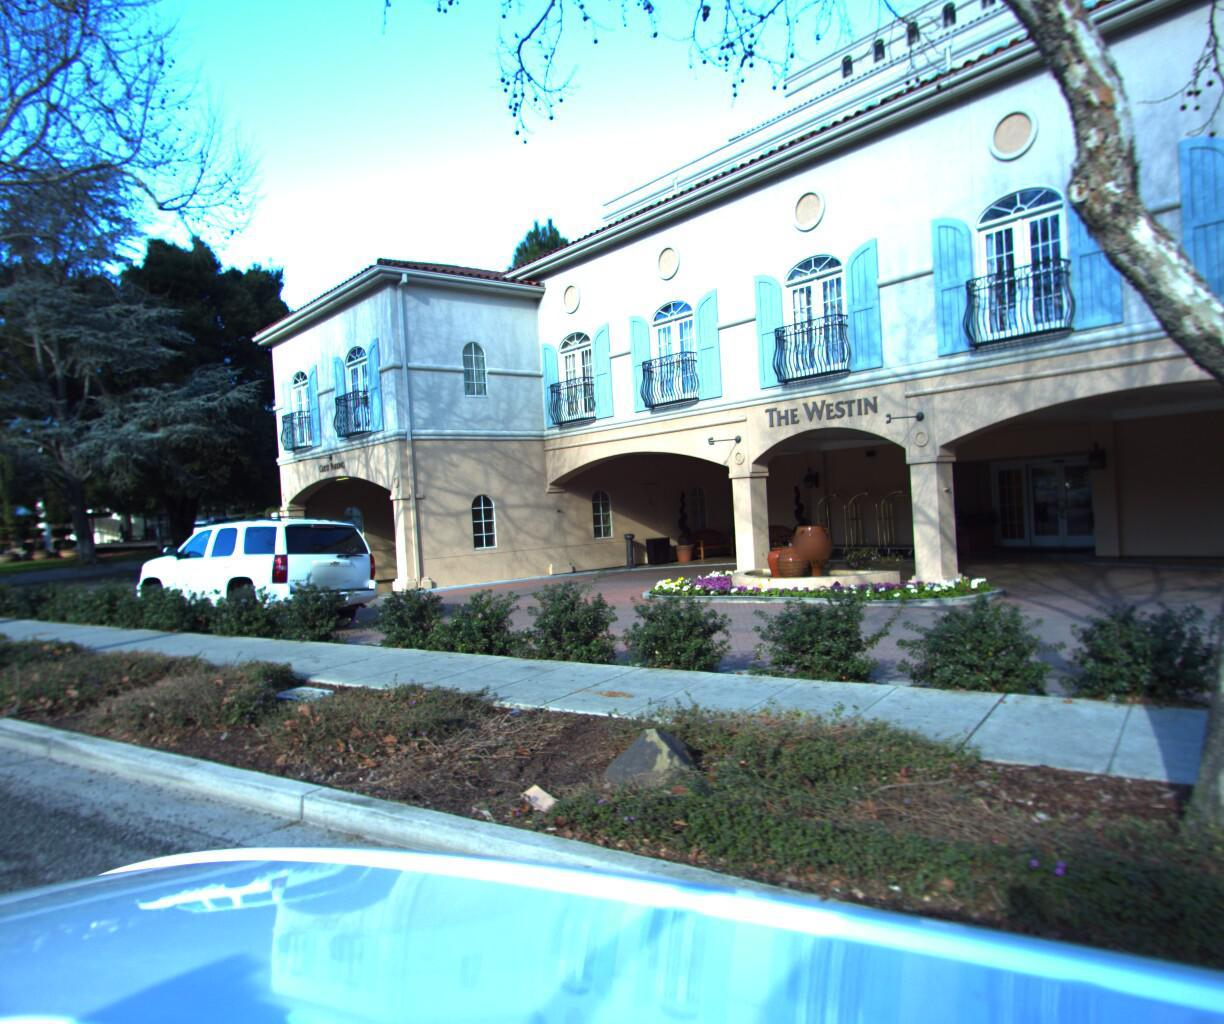car: (119, 501, 397, 645), (181, 513, 230, 539), (203, 508, 244, 540)
